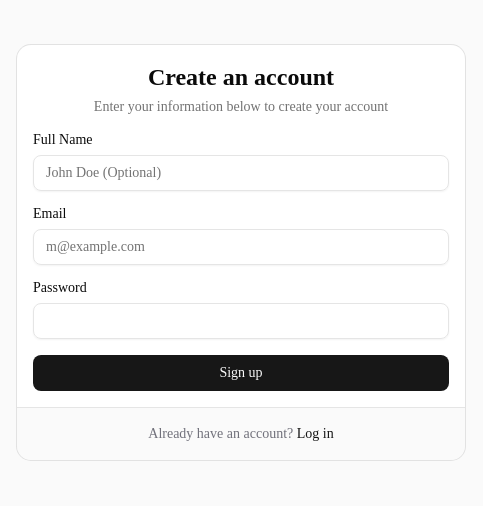
it: RegisterPage › shows validation errors for empty fields
This screenshot has width=483, height=506.
Click the button "Sign up".
click(241, 372)  # box x1=33 y1=354 x2=449 y2=390
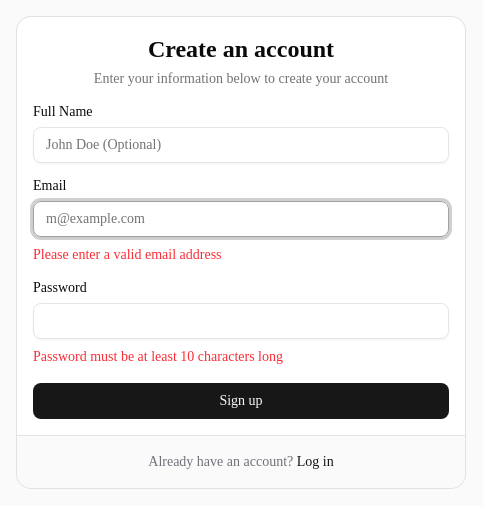
Expected: the text "Please enter a valid email address" is shown, x1=33 y1=246 x2=222 y2=262
Expected: the text "Password must be at least 10 characters long" is shown, x1=33 y1=348 x2=283 y2=364
